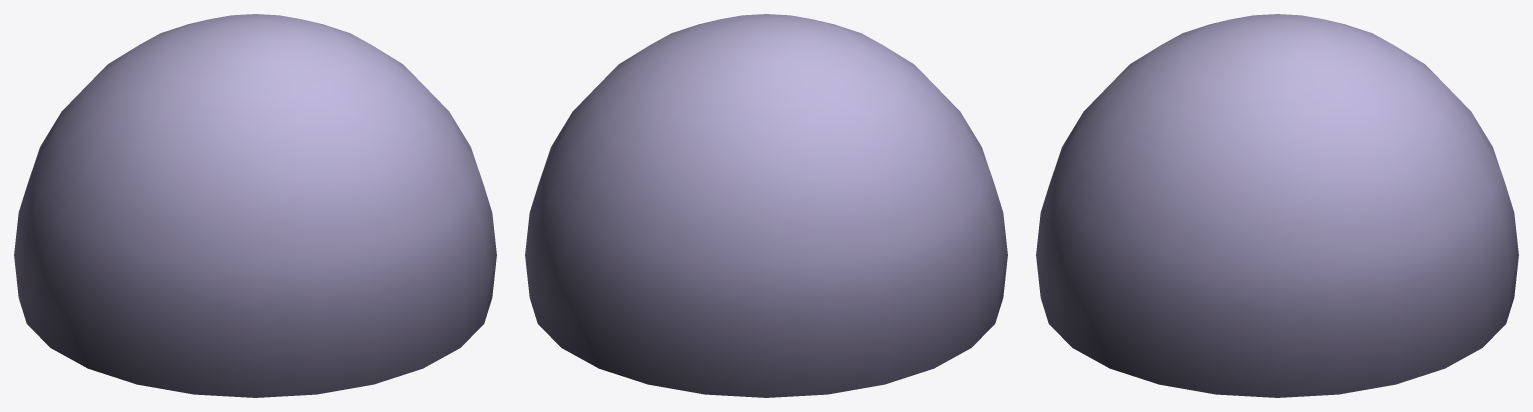
The model's file is Medium_Sphere.fbx.
3 views of the same model, side by side, from view 1: azimuth 30°, elevation 25°; view 2: azimuth 150°, elevation 25°; view 3: azimuth 270°, elevation 25° (orthographic).
Visible parts, largest first — view 1: Sphere.002; view 2: Sphere.002; view 3: Sphere.002.
Boxes of the visible parts, bbox=[...] form: Sphere.002: bbox=[14, 14, 496, 397]; Sphere.002: bbox=[525, 14, 1007, 397]; Sphere.002: bbox=[1036, 14, 1518, 397].
Size of the model in its own units: 200 by 120 by 200.
